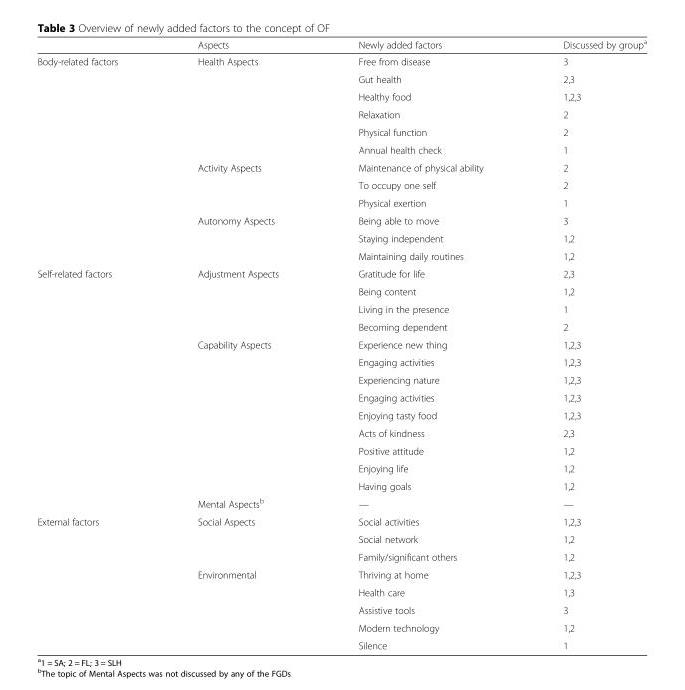table: (36, 37, 646, 650)
table column: (317, 37, 522, 650), (157, 37, 317, 650), (522, 37, 646, 650), (36, 37, 157, 650)
table column header: (36, 37, 646, 52)
table row: (36, 69, 646, 87), (36, 87, 646, 105), (36, 105, 646, 123), (36, 140, 646, 158), (36, 158, 646, 176), (36, 193, 646, 211), (36, 211, 646, 229), (36, 246, 646, 264), (36, 264, 646, 282), (36, 282, 646, 300), (36, 317, 646, 335), (36, 335, 646, 353), (36, 370, 646, 388), (36, 388, 646, 406), (36, 423, 646, 441), (36, 441, 646, 459), (36, 459, 646, 477), (36, 494, 646, 512), (36, 512, 646, 530), (36, 547, 646, 565), (36, 565, 646, 583), (36, 600, 646, 618), (36, 618, 646, 636), (36, 52, 646, 69), (36, 123, 646, 140), (36, 176, 646, 193), (36, 229, 646, 246), (36, 300, 646, 317), (36, 353, 646, 370), (36, 406, 646, 423), (36, 477, 646, 494), (36, 530, 646, 547), (36, 583, 646, 600), (36, 37, 646, 52), (36, 636, 646, 650)
table spanning cell: (36, 264, 157, 512), (36, 52, 157, 264), (157, 335, 317, 494), (157, 52, 317, 158), (36, 512, 157, 650), (157, 565, 317, 650), (157, 264, 317, 335), (157, 158, 317, 211), (157, 211, 317, 264), (157, 512, 317, 565)
